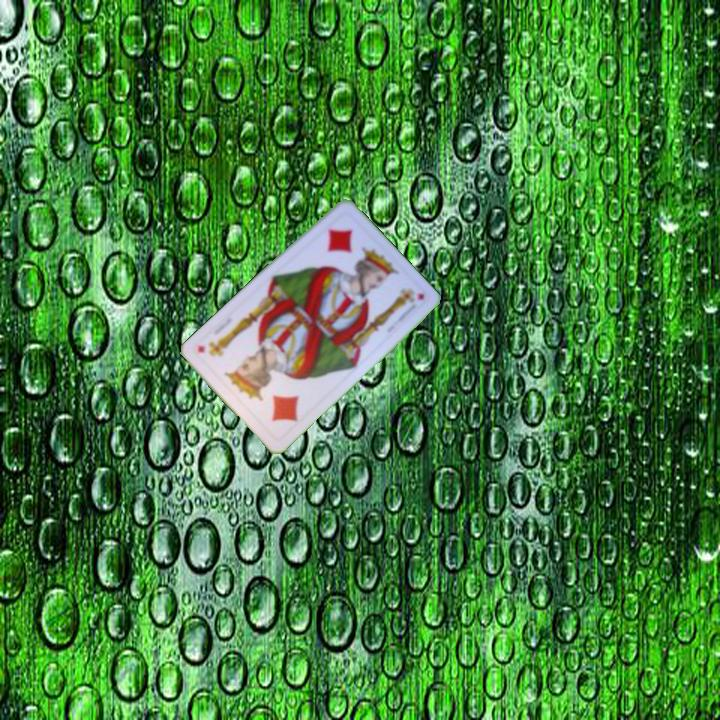d_k.png: (302, 208, 388, 294), (232, 357, 318, 443)
